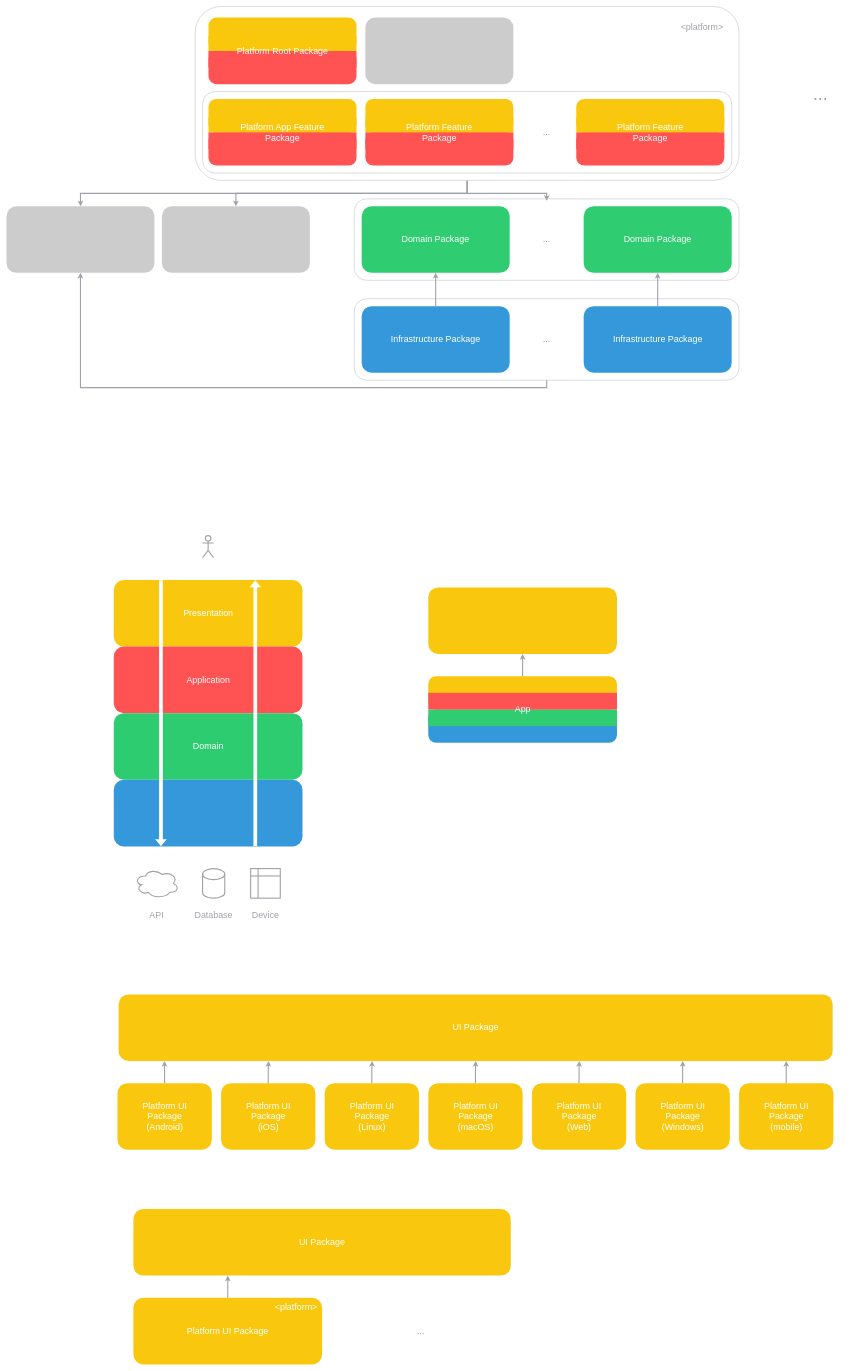
The diagram is 854 pixels wide and 1371 high, and some of its shapes have lost their labels. The shapes that lost their labels are listed below. From the top down, each one's centre as x and y in pixels, then its label:
At point 439,50: "Platform Navigation Package".
At point 80,239: "Logging Package".
At point 236,239: "Dependency Injection Package".
At point 208,546: "User".
At point 522,620: "UI".
At point 208,813: "Infrastructure".
